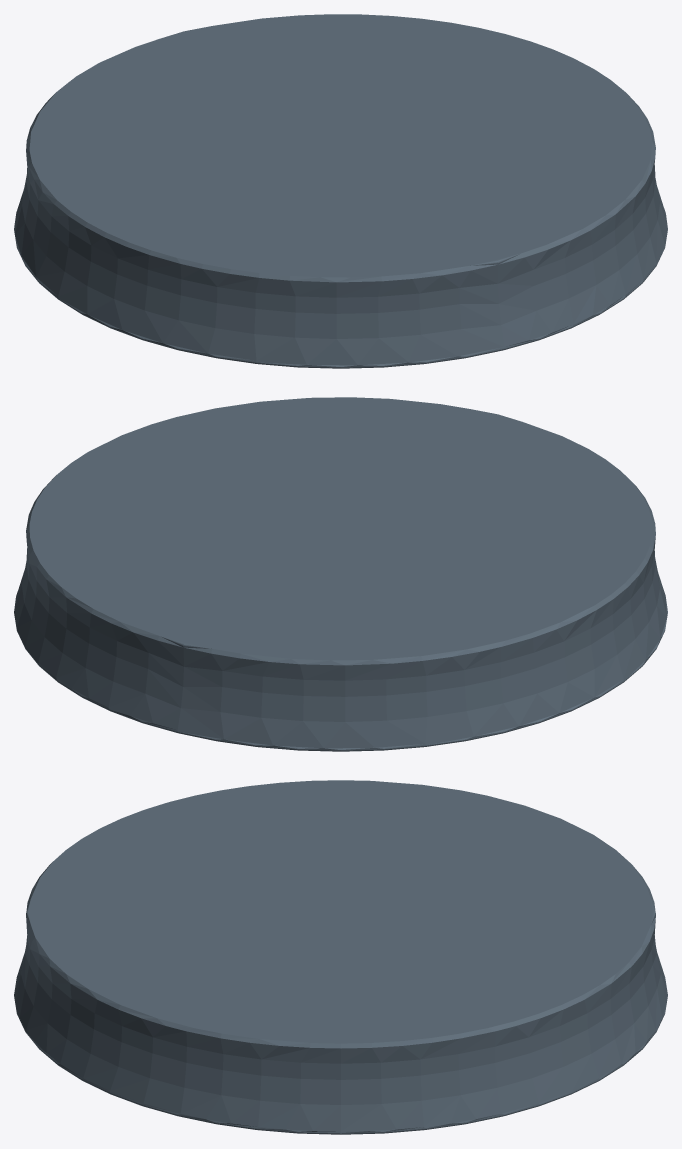
The picture shows the model from 3 angles, top to bottom: view 1: azimuth 30°, elevation 25°; view 2: azimuth 150°, elevation 25°; view 3: azimuth 270°, elevation 25°; orthographic projection.
Visible parts, largest first — view 1: A0509_5_0; view 2: A0509_5_0; view 3: A0509_5_0.
Part boxes in pixels (x1,y1,x2,y2): A0509_5_0: [14, 14, 667, 368]; A0509_5_0: [14, 397, 667, 751]; A0509_5_0: [14, 780, 667, 1134].
Size of the model in its own units: 90.23 by 90.23 by 13.
